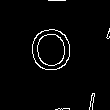O_S: (31, 28, 79, 82)
